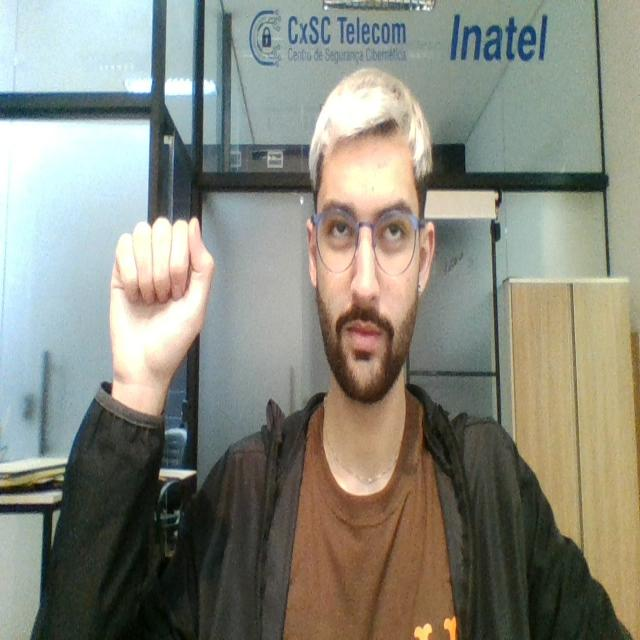A: (107, 206, 216, 386)
